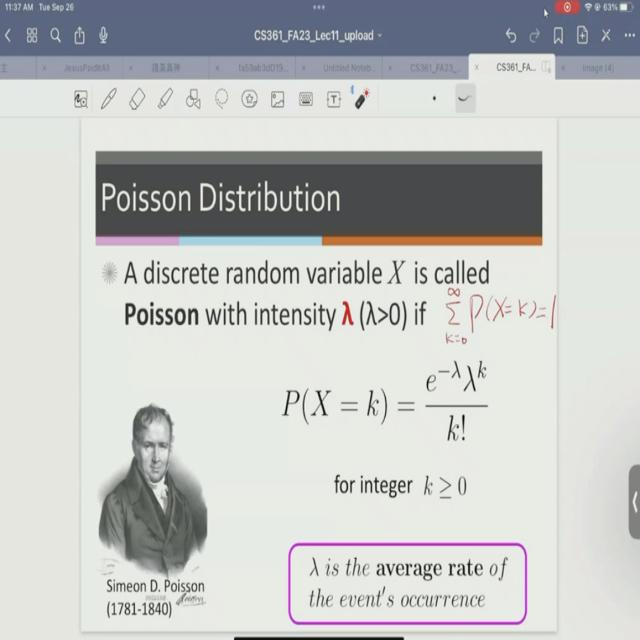equations: (272, 356, 494, 449), (439, 285, 557, 348), (422, 469, 471, 504), (365, 299, 402, 331)
